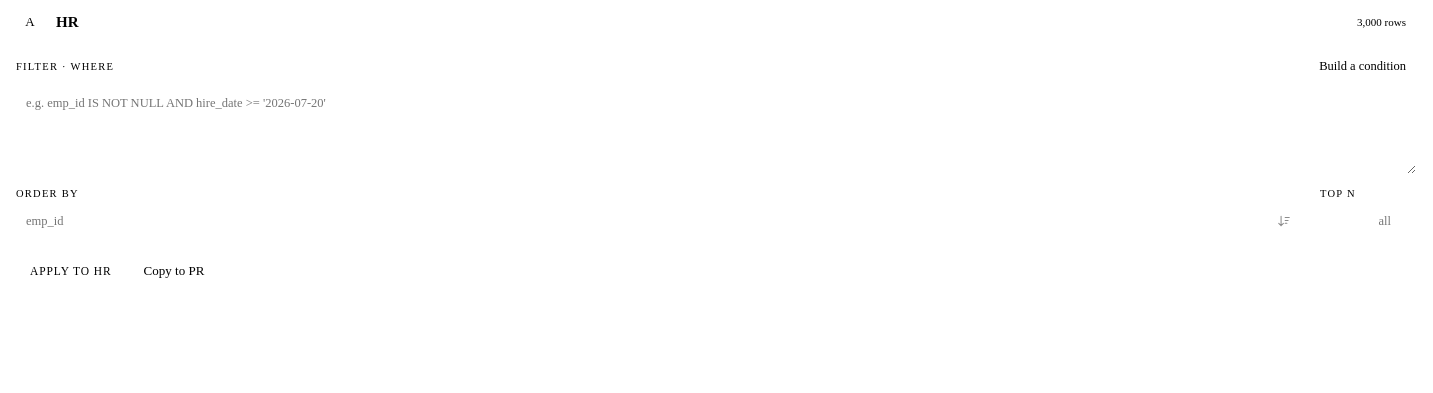
it: Rows to read: the rows pill, a condition built, Apply loads the side again with the rows options
The image size is (1433, 393).
Check: the text "3,000 rows" is shown, box [1357, 16, 1406, 28]
Click the button "Build a condition" at (1363, 66), box [1309, 50, 1416, 82]
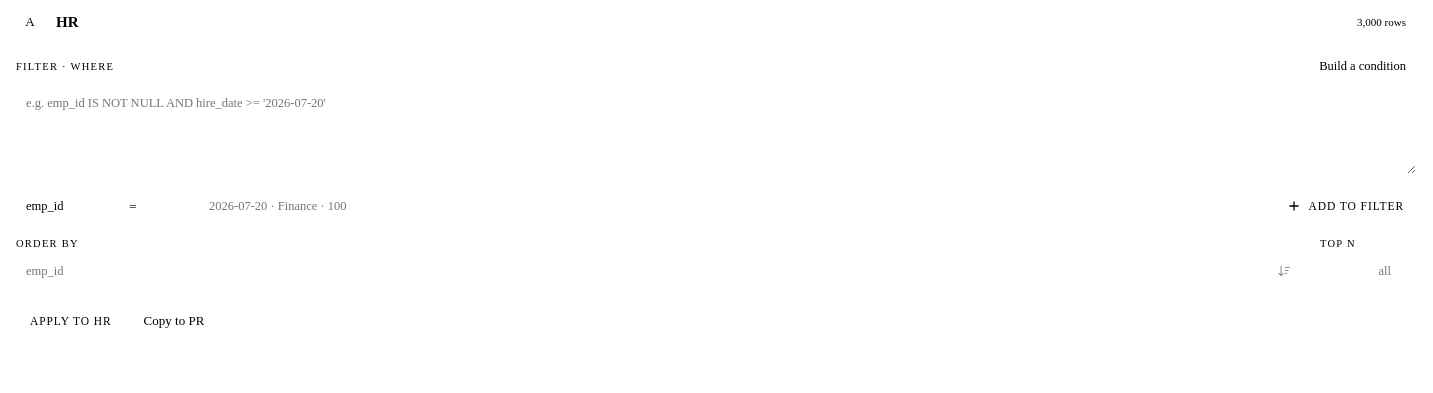
Select "salary" in the dropdown named "Column" at (64, 206), box [16, 188, 111, 224]
Type "100" into the field named "Value" at (733, 206), box [199, 188, 1266, 224]
Click the button "Add to filter" at (1345, 206), box [1274, 190, 1416, 222]
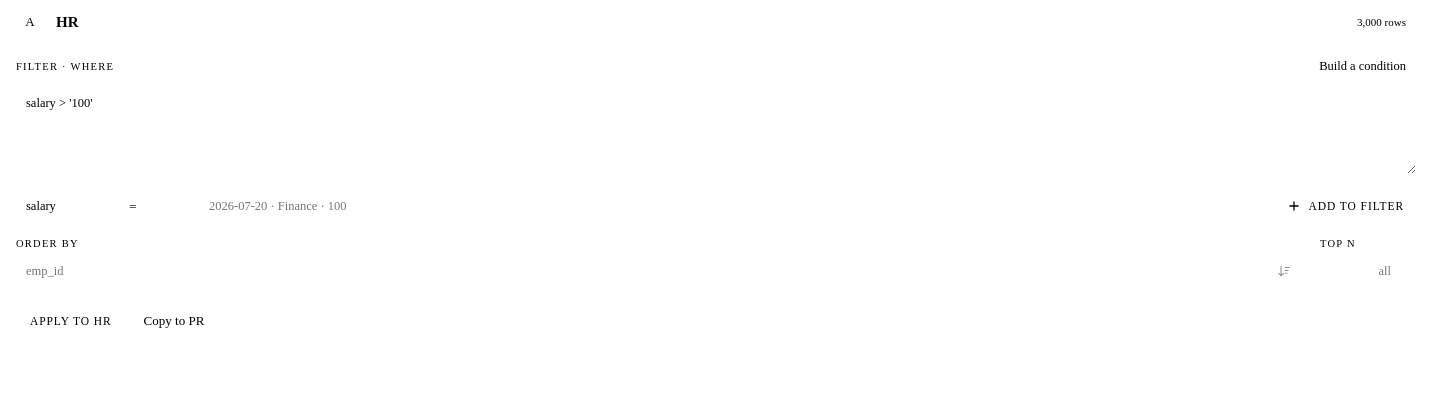
Check: the text box labelled "Filter · WHERE" holds "salary > '100'", box [16, 86, 1416, 174]
Type "salary" into the field labelled "Order by" at (637, 271), box [16, 253, 1258, 289]
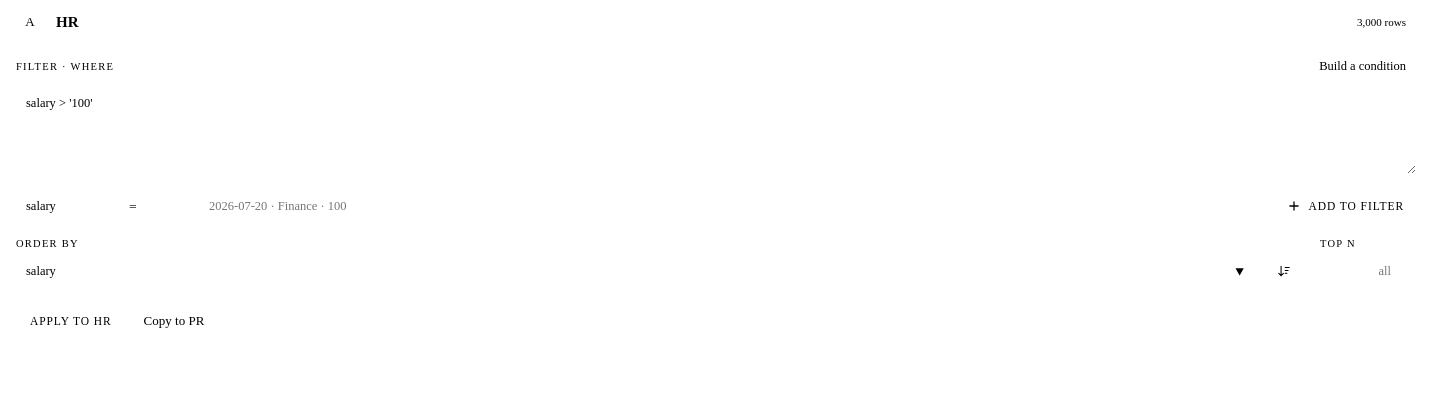
Click the button named "Descending" at (1284, 271), box [1266, 253, 1302, 289]
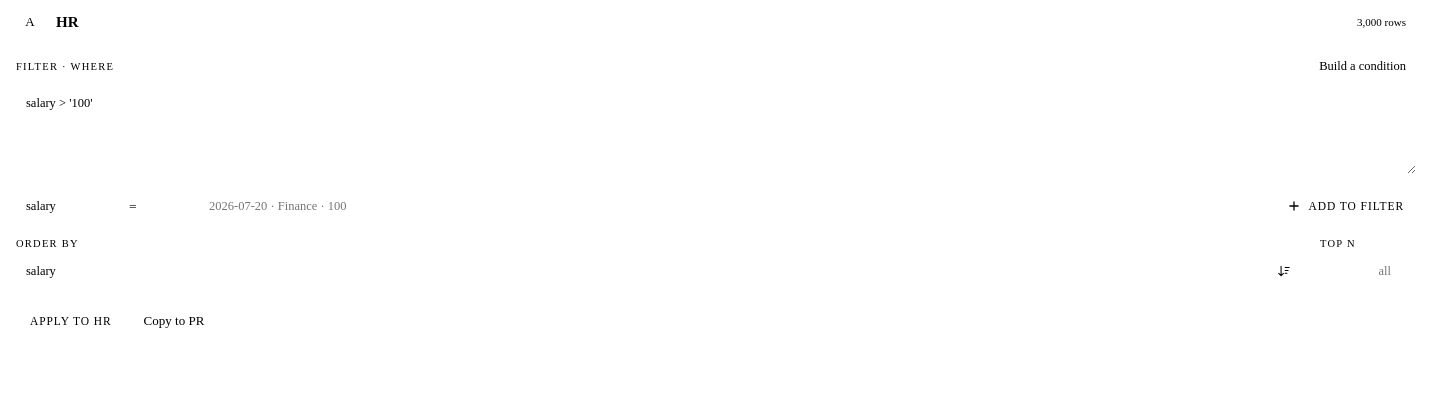
Type "500" into the number field labelled "Top N" at (1368, 271), box [1320, 253, 1416, 289]
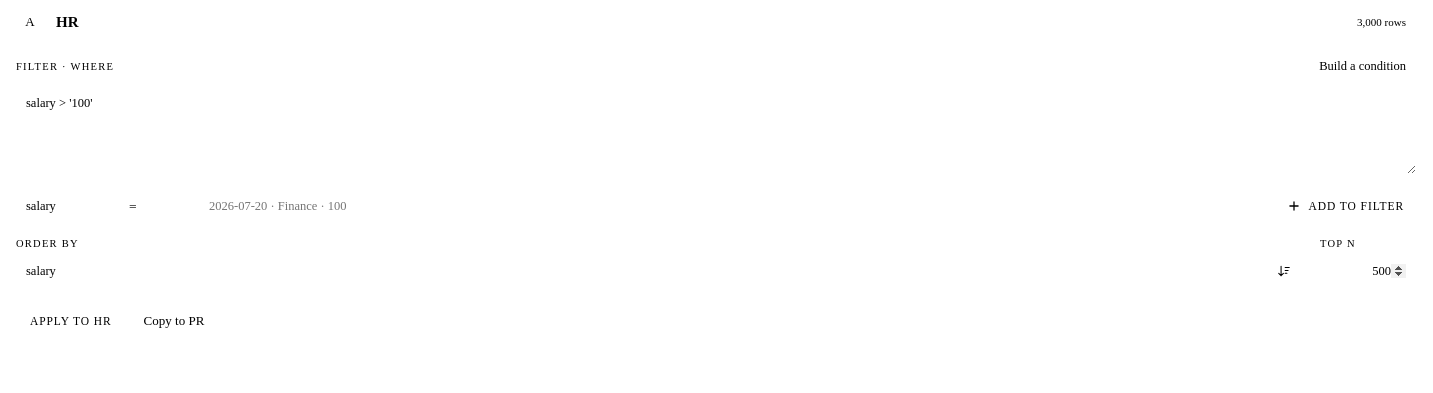
Click the button "Apply to HR" at (71, 321), box [16, 303, 126, 339]
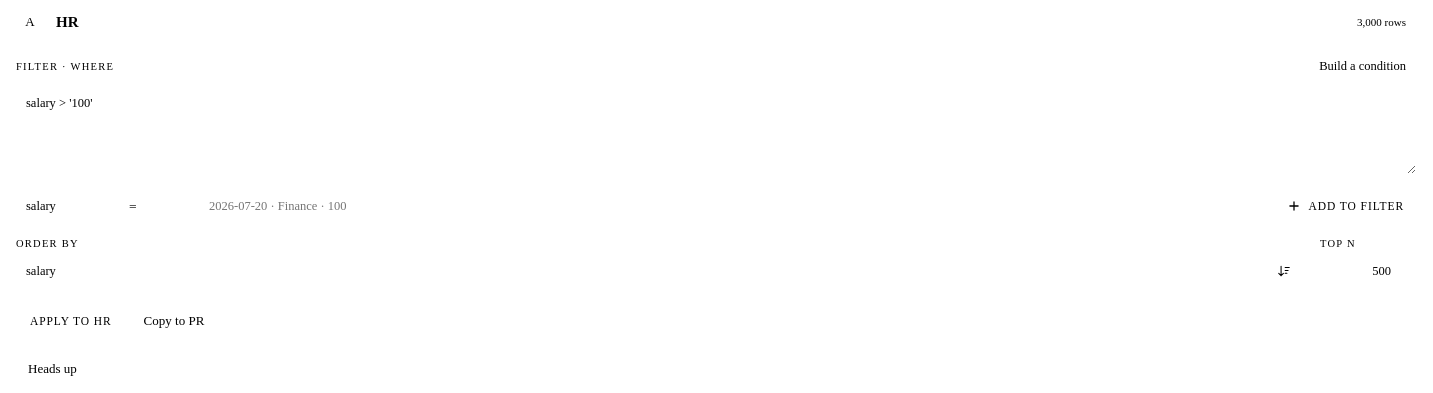
Check: the text "Heads up" is shown, box [28, 361, 77, 376]
